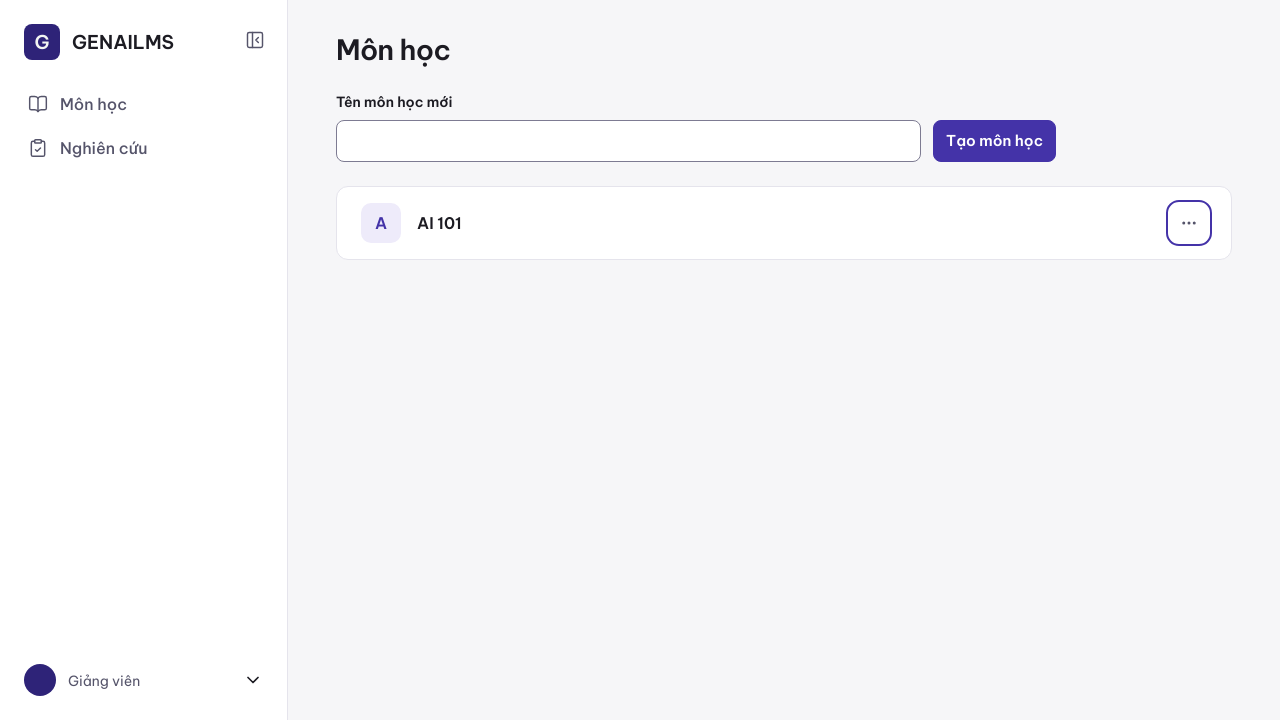
Test: CoursesPage - rename › keeps the name and sends nothing when cancelled or empty
The width and height of the screenshot is (1280, 720).
Press Enter
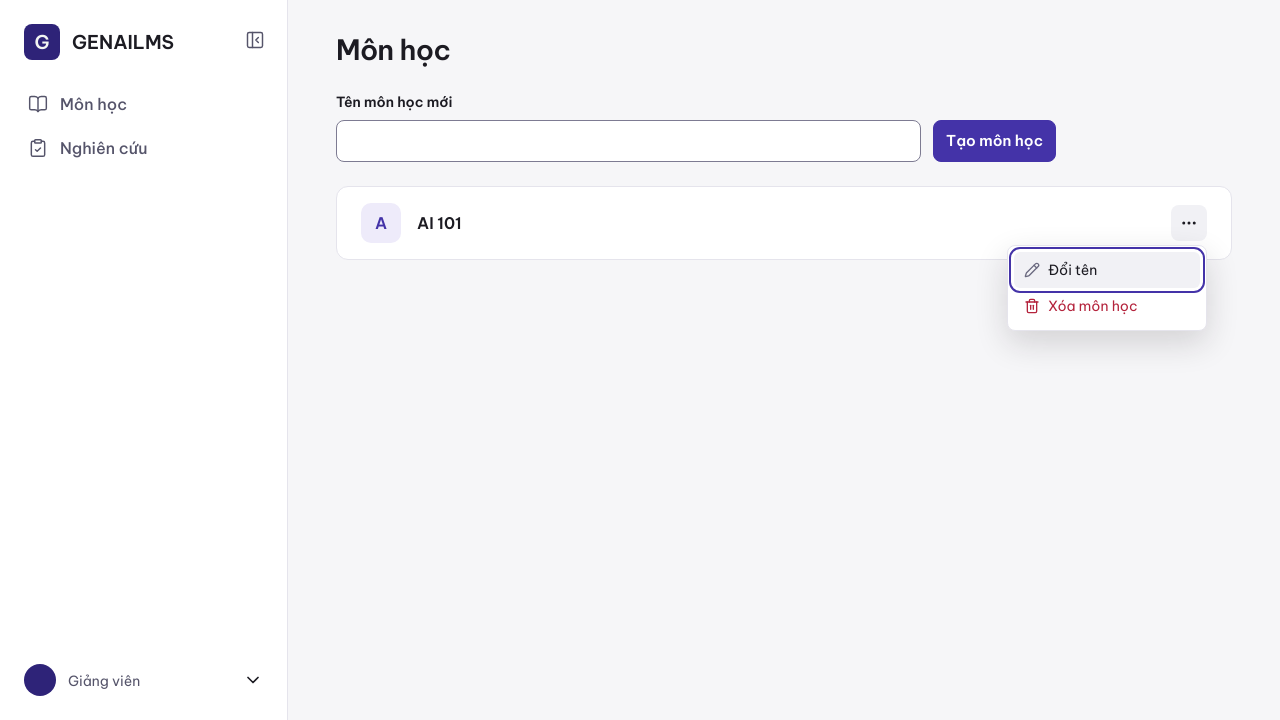
Click the menu item "Đổi tên": [1107, 270] box [1014,252,1200,288]
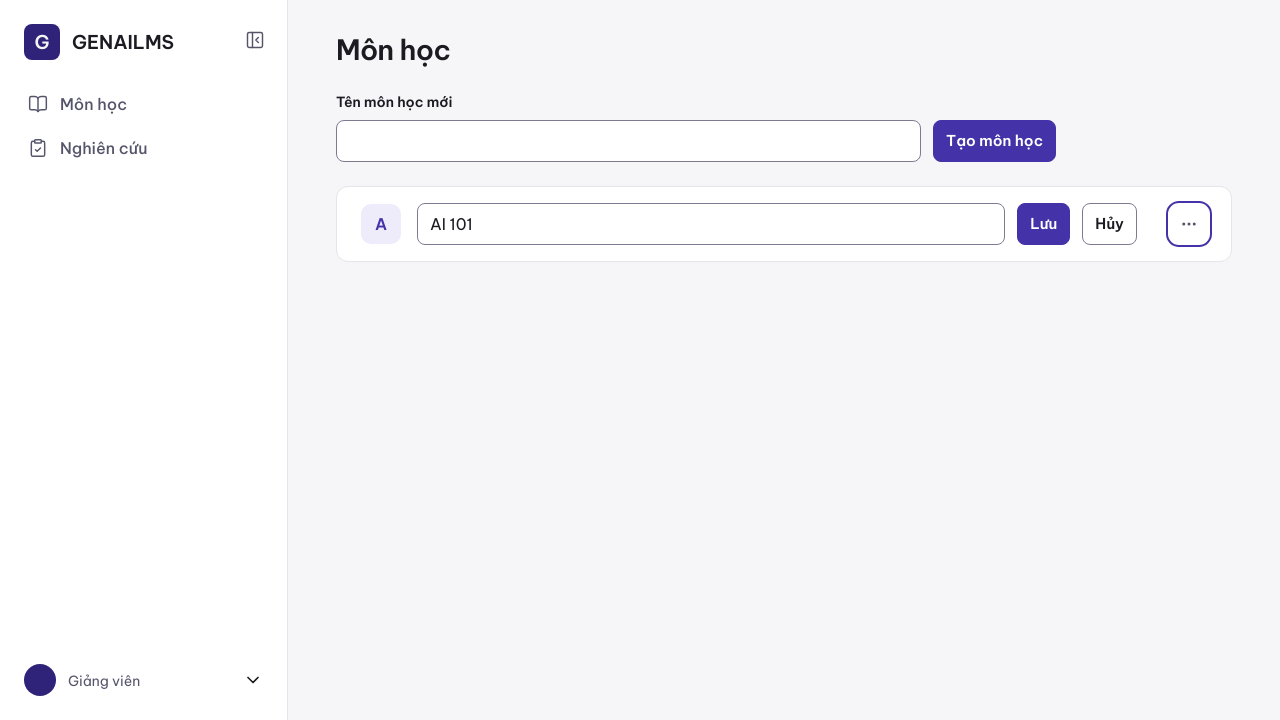
Clear the field named "Tên môn học": [711, 224] box [417,203,1005,245]
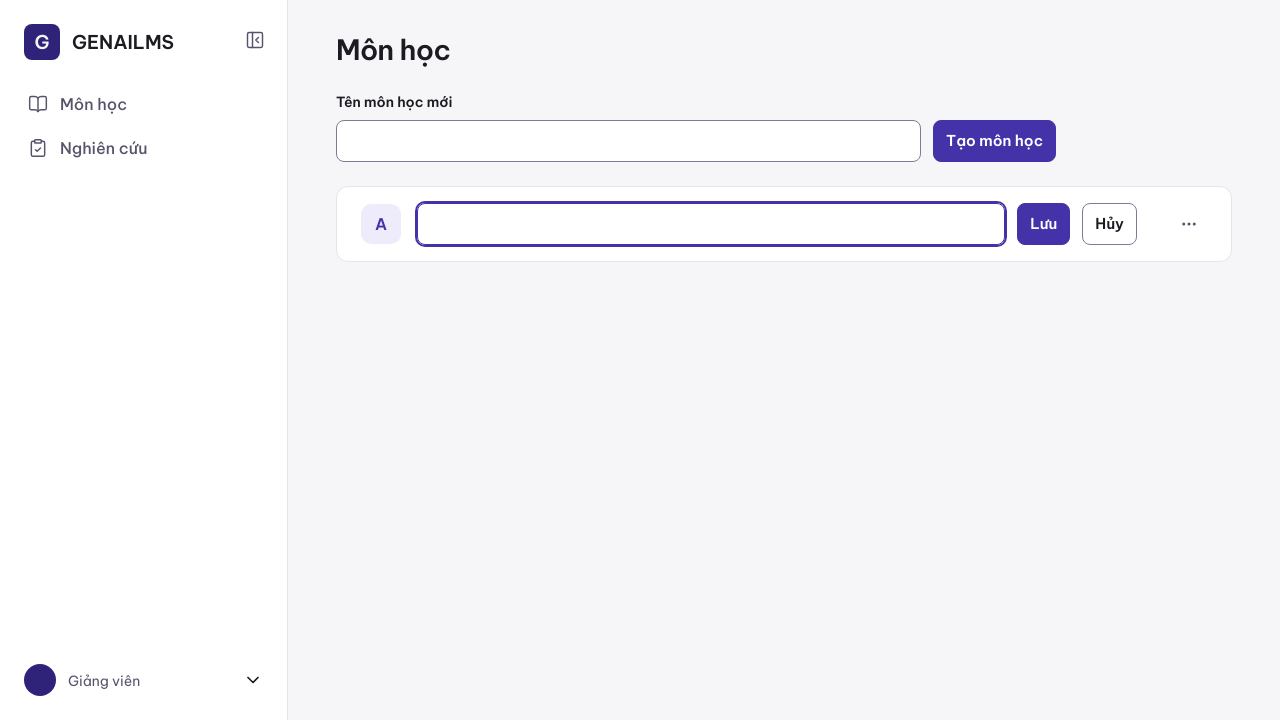
Click the button "Lưu": [1044, 224] box [1017,203,1070,245]
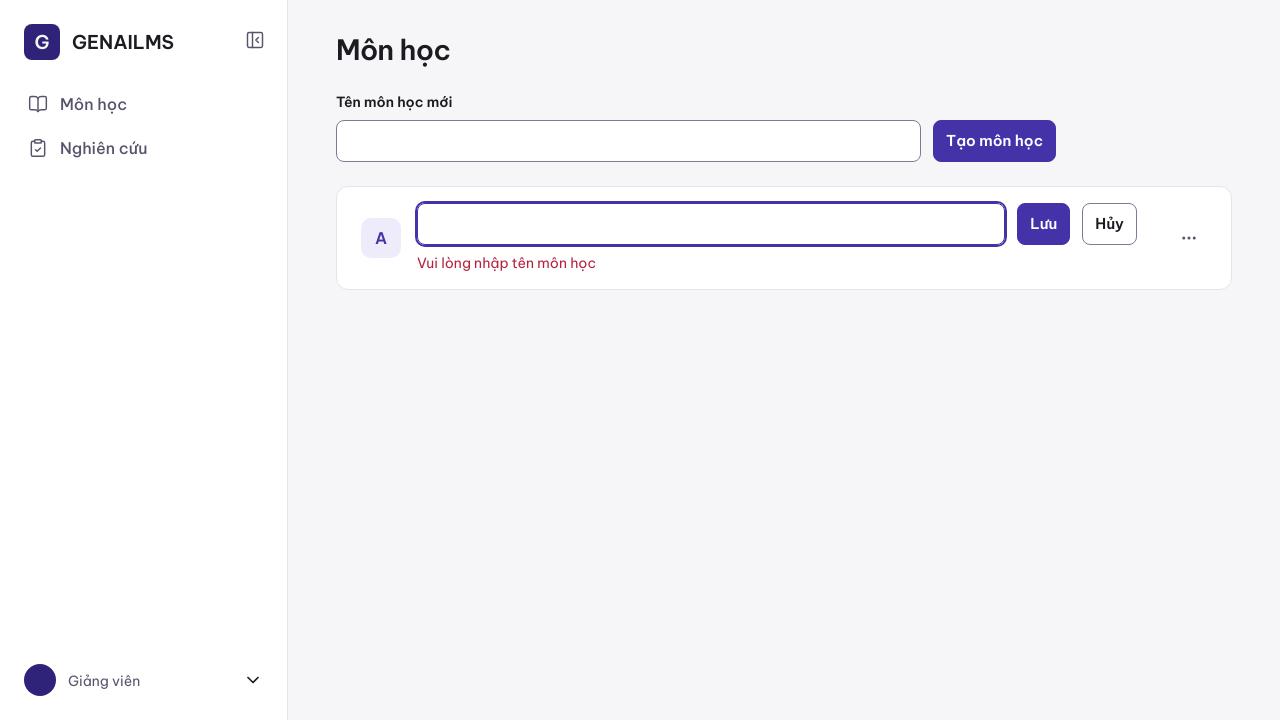
Expected: the text "Vui lòng nhập tên môn học" is shown, [417,254,596,272]
Click the button "Hủy": [1110, 224] box [1082,203,1137,245]
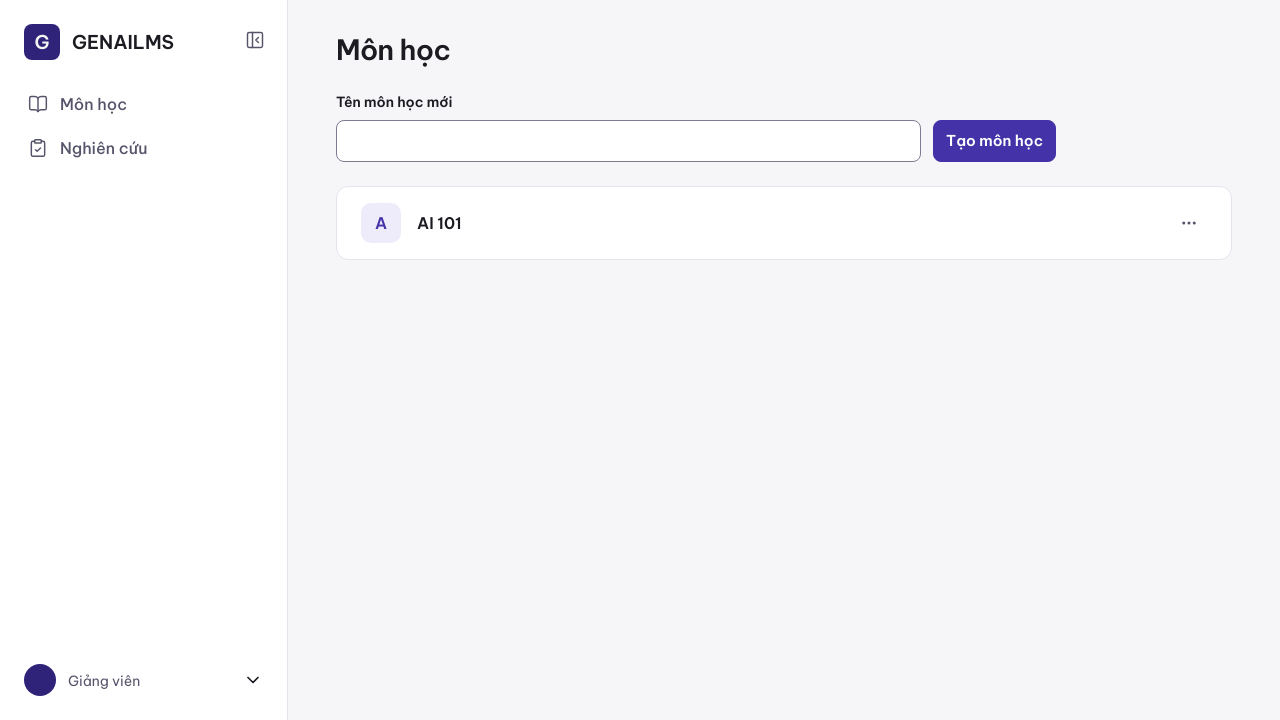
Expected: the link "AI 101" is shown, [417,213,462,233]
